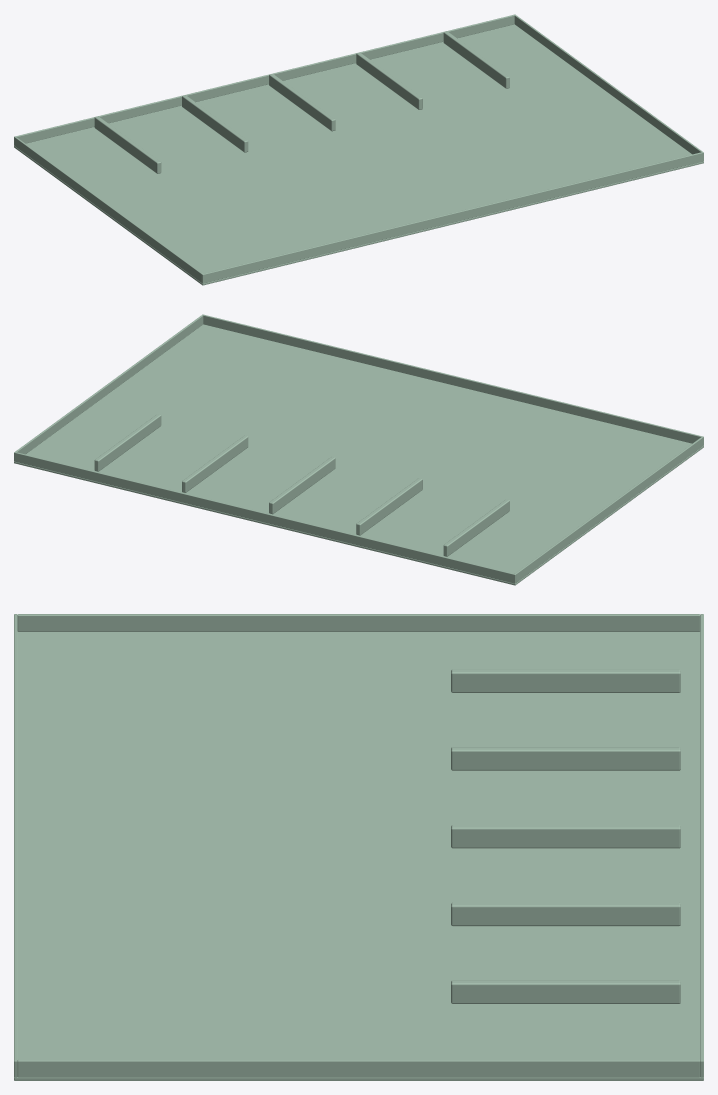
File: hearing-aid-and-audiology-clinic-recessed-service-mat-07c553e4__31757.glb
3 renders of one model, top to bottom at view 1: azimuth 30°, elevation 25°; view 2: azimuth 150°, elevation 25°; view 3: azimuth 270°, elevation 25°, orthographic. The views are drawn at different scales.
Visible parts, largest first — view 1: recessed-service-mat; view 2: recessed-service-mat; view 3: recessed-service-mat.
Boxes of the visible parts, box(x1,y1,x2,y2) form: recessed-service-mat: box(14, 14, 703, 285); recessed-service-mat: box(14, 314, 703, 585); recessed-service-mat: box(14, 614, 703, 1080).
Bounding box in the file's own units: 0.46 × 0.015 × 0.3.
